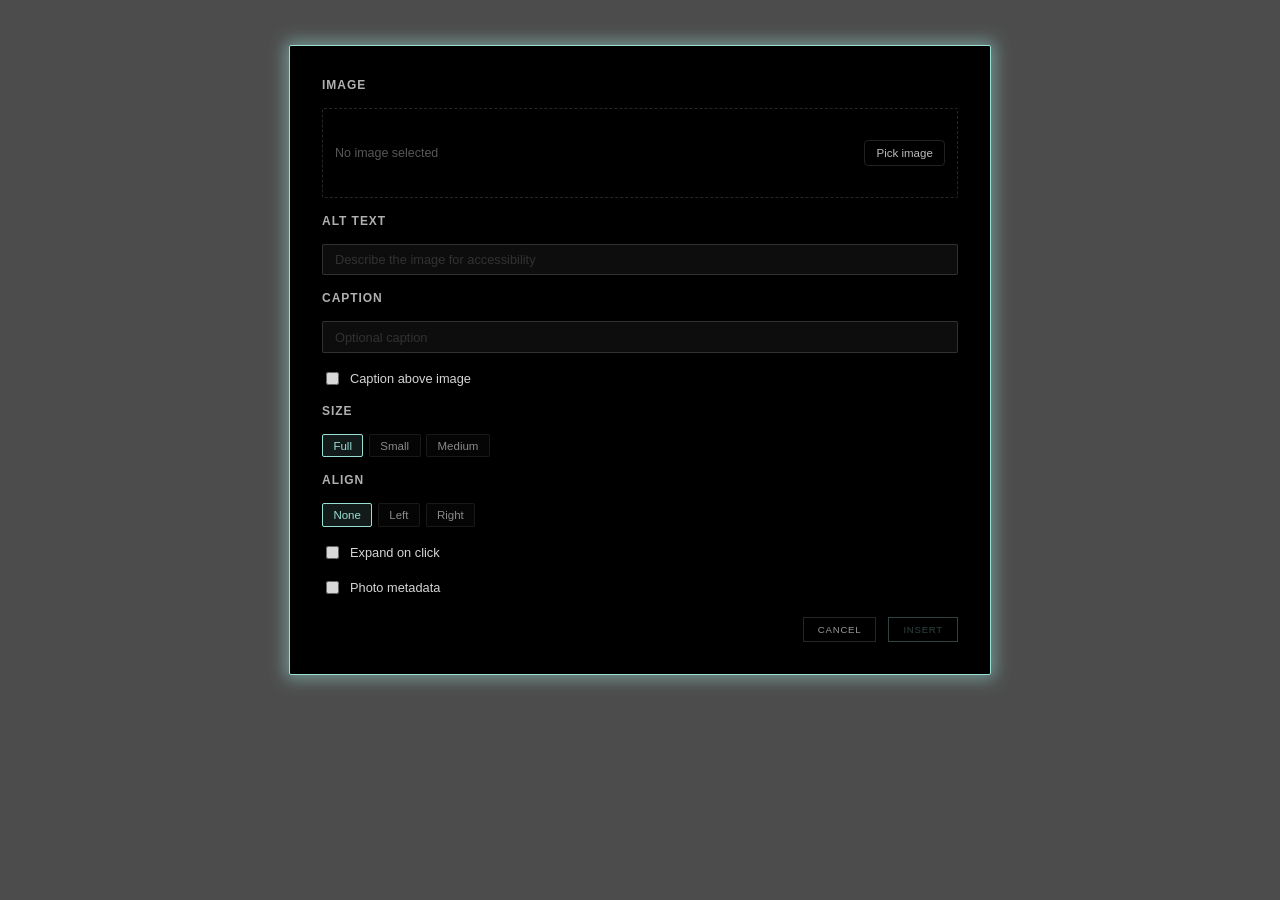
Test case: ImageInsertModal › resets state after insert
Click the button with test id "pick-image-button" at (905, 153), box [864,140,945,166]
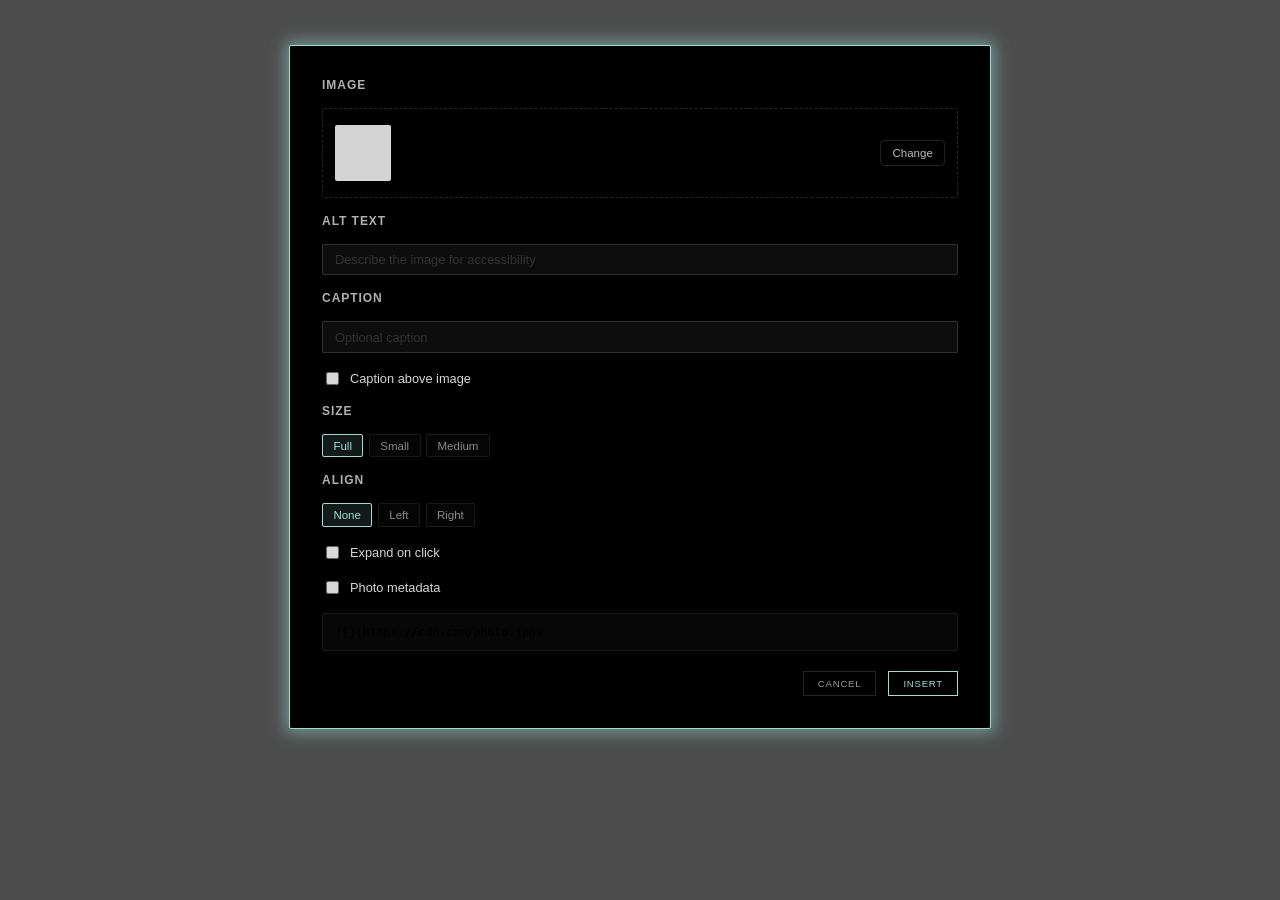
Type "Alt" into the field with test id "alt-text-input" at (640, 260), box [322,244,958,275]
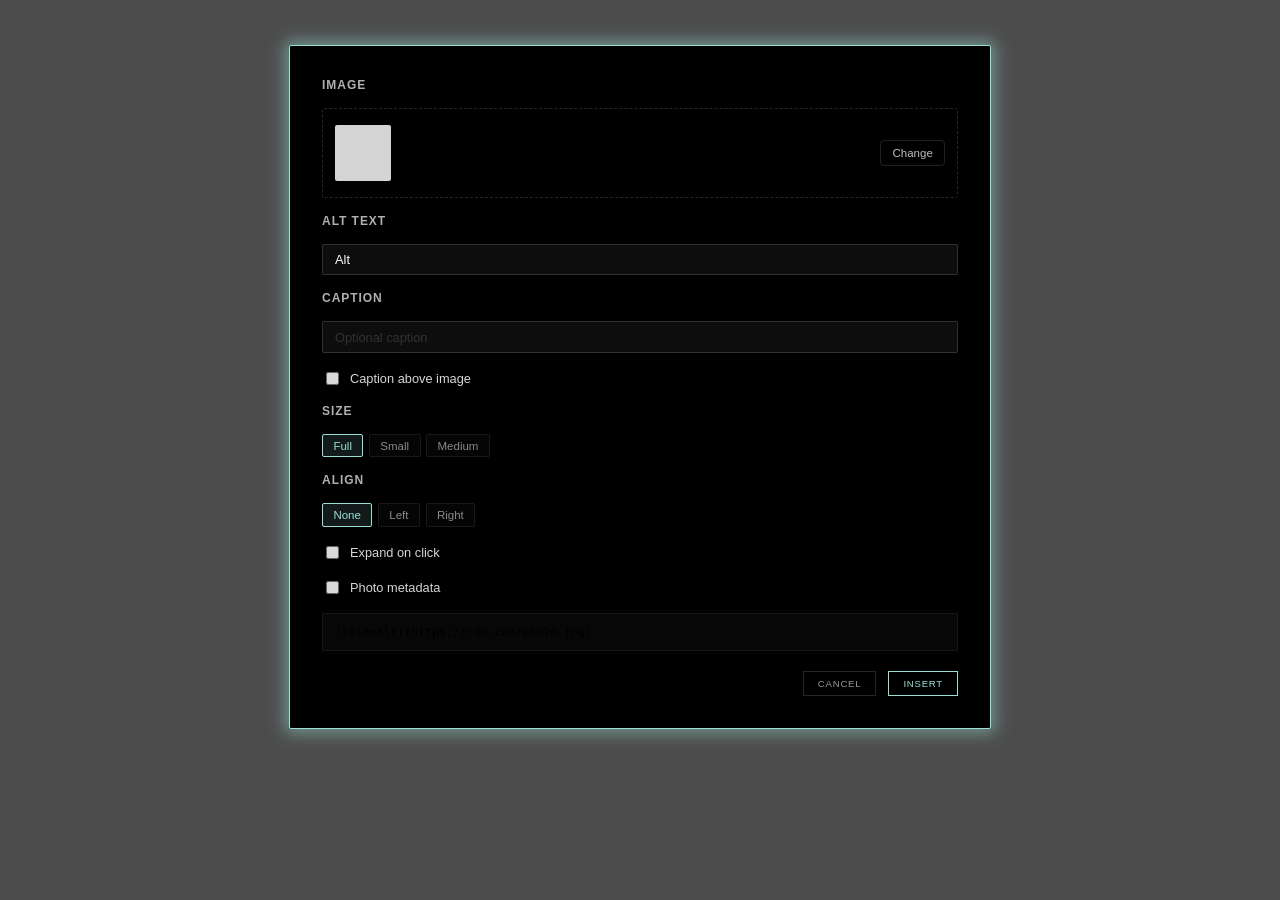
Click the button with test id "image-modal-insert" at (923, 684), box [888,671,958,696]
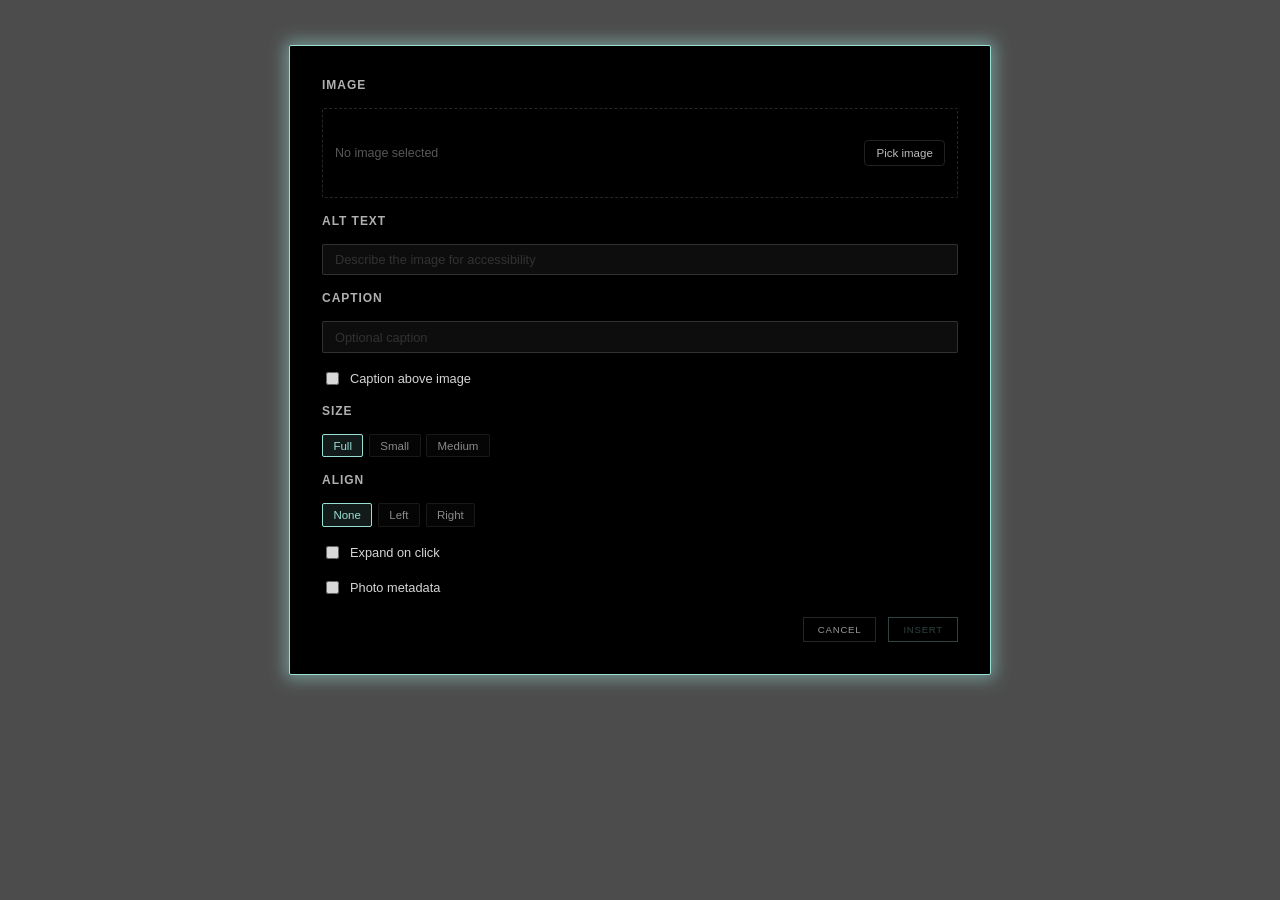
Expected: the picture with test id "selected-image-thumb" is gone
Expected: the field with test id "alt-text-input" is empty, [322,244,958,275]
Expected: the text with test id "image-preview" is gone
